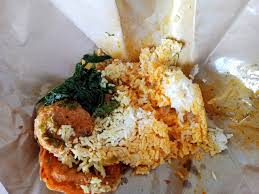Nasi padang: (28, 40, 216, 194)
